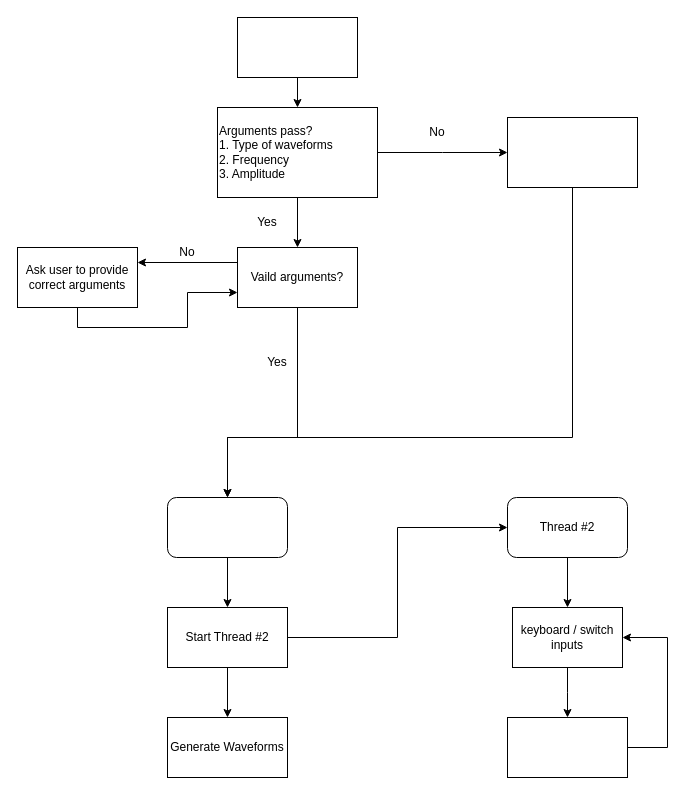
This 693x795 diagram has some shape labels left out. The shapes that lost their labels are listed below. From the top down, each one's centre as x and y in pixels, then its label:
At (x=297, y=47): "Start Program".
At (x=572, y=152): "read from default setting file".
At (x=227, y=527): "Thread #1".
At (x=567, y=747): "Change settings".
